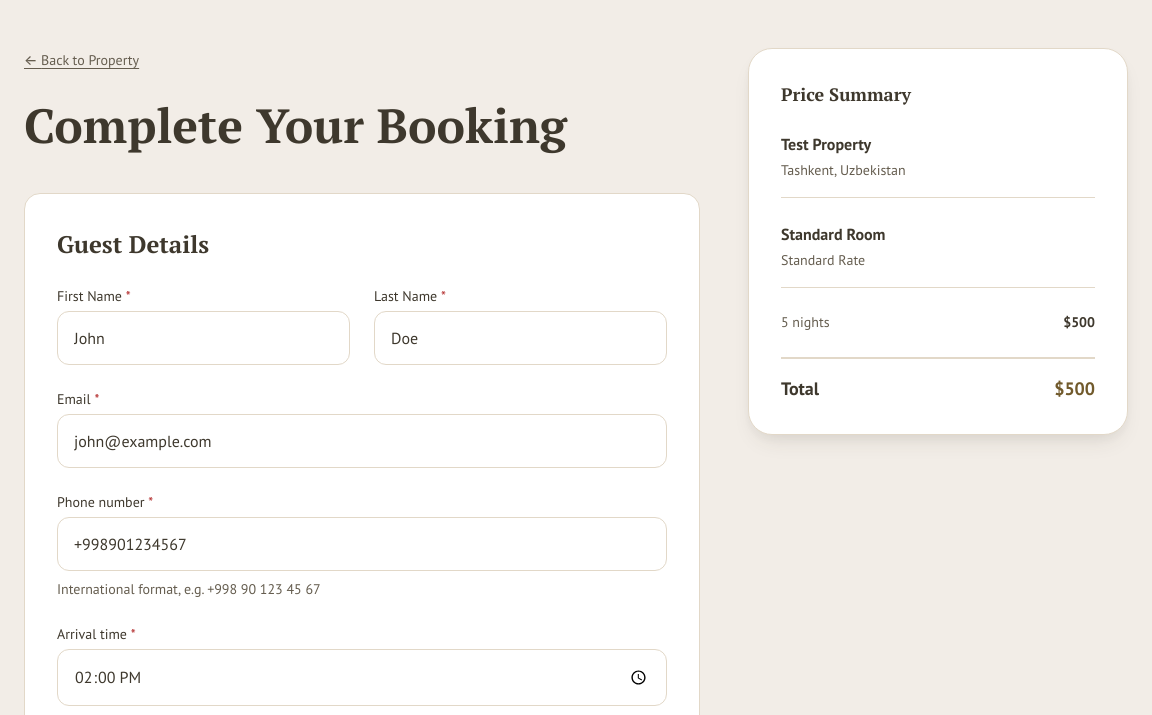
Scenario: BookingPage › cash booking (plan PLAN_CASH_ONLY stage 2) › confirms the booking at once: a confirmed page with the arrival rule
The width and height of the screenshot is (1152, 715).
Expected: the field labelled "First Name *" is shown, x1=57 y1=311 x2=350 y2=365
Replace the text in the time field labelled "Arrival time *" with "10:30" at (362, 677), box x1=57 y1=649 x2=667 y2=706
(page scrolled)
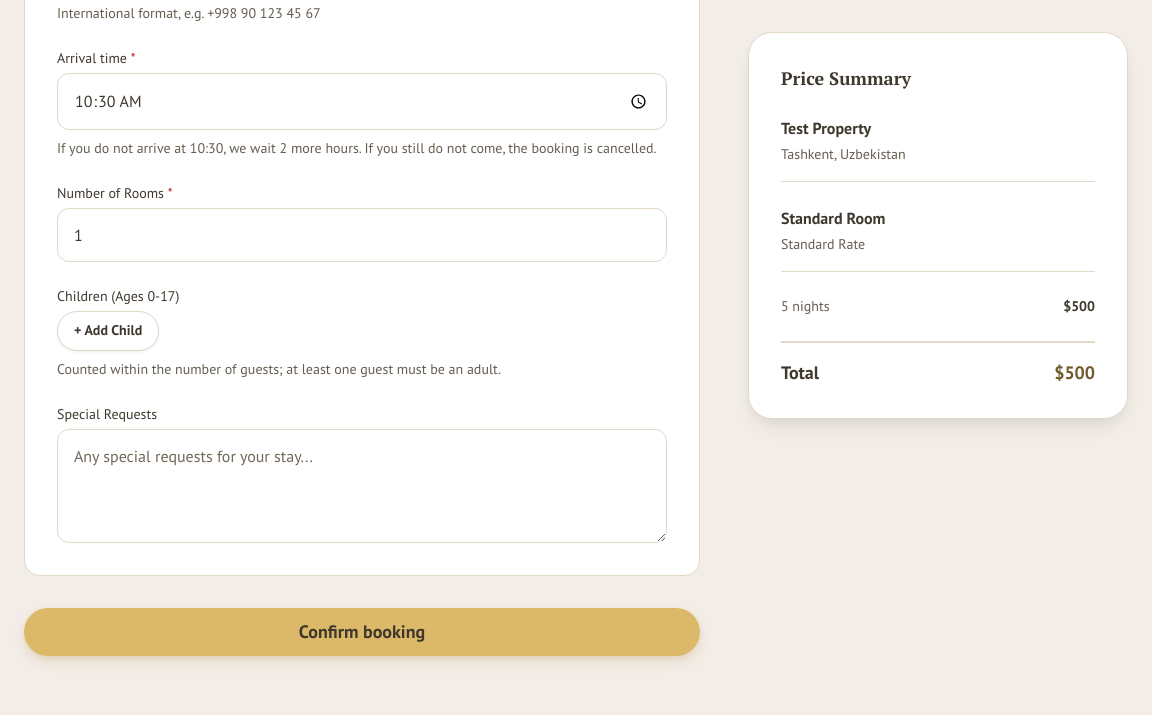
Click the button "Confirm booking" at (362, 632), box x1=24 y1=608 x2=700 y2=656
(page scrolled)
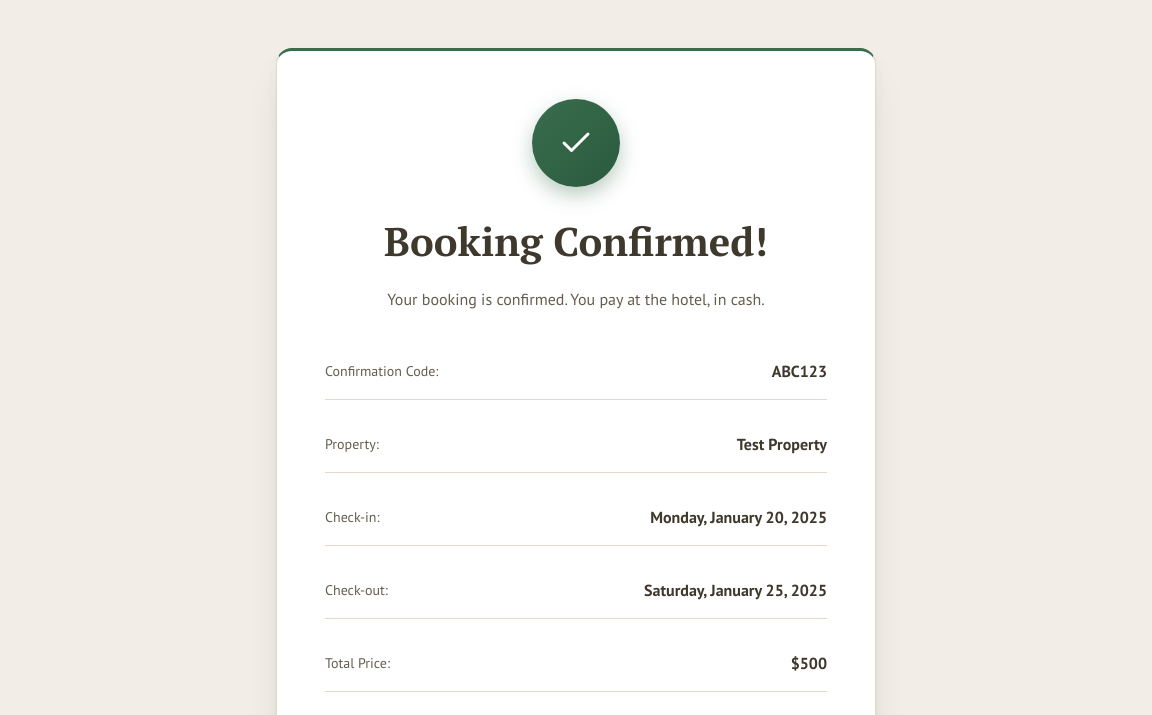
Expected: the heading "Booking Confirmed!" is shown, x1=384 y1=214 x2=768 y2=267
Expected: the text "ABC123" is shown, x1=772 y1=359 x2=827 y2=383
Expected: the text "Your booking is confirmed. You pay at the hotel, in cash." is shown, x1=387 y1=289 x2=765 y2=309
